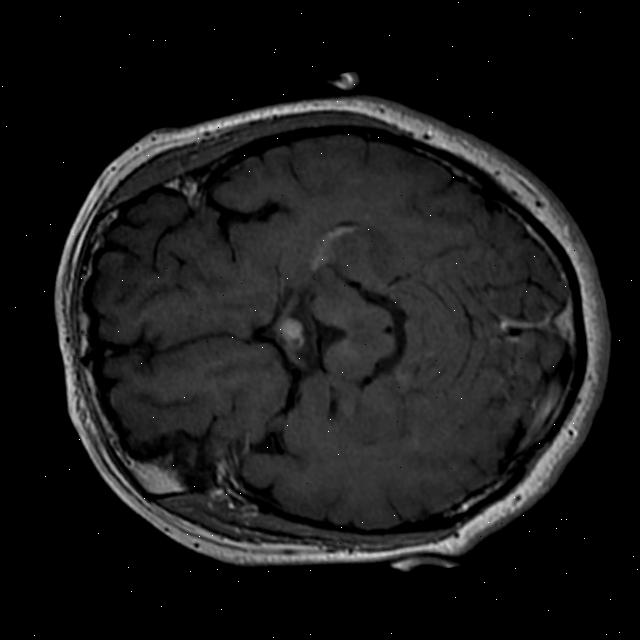Pituitary: (273, 312, 308, 352)
